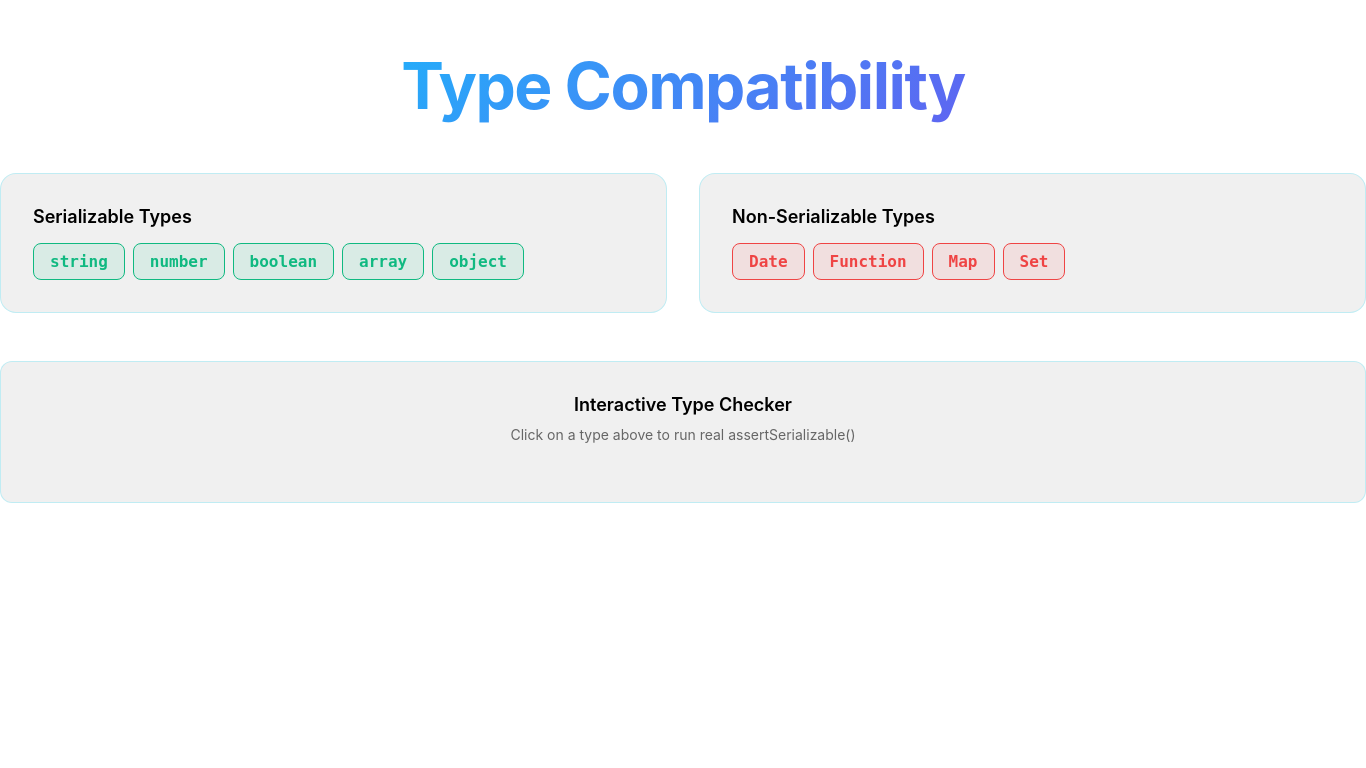
Test: TypeDemo › interactive type checker › should show "SerializationError" when Date is selected
Click the button with test id "type-card-Date".
click(768, 262)  # box left=732, top=243, right=804, bottom=280
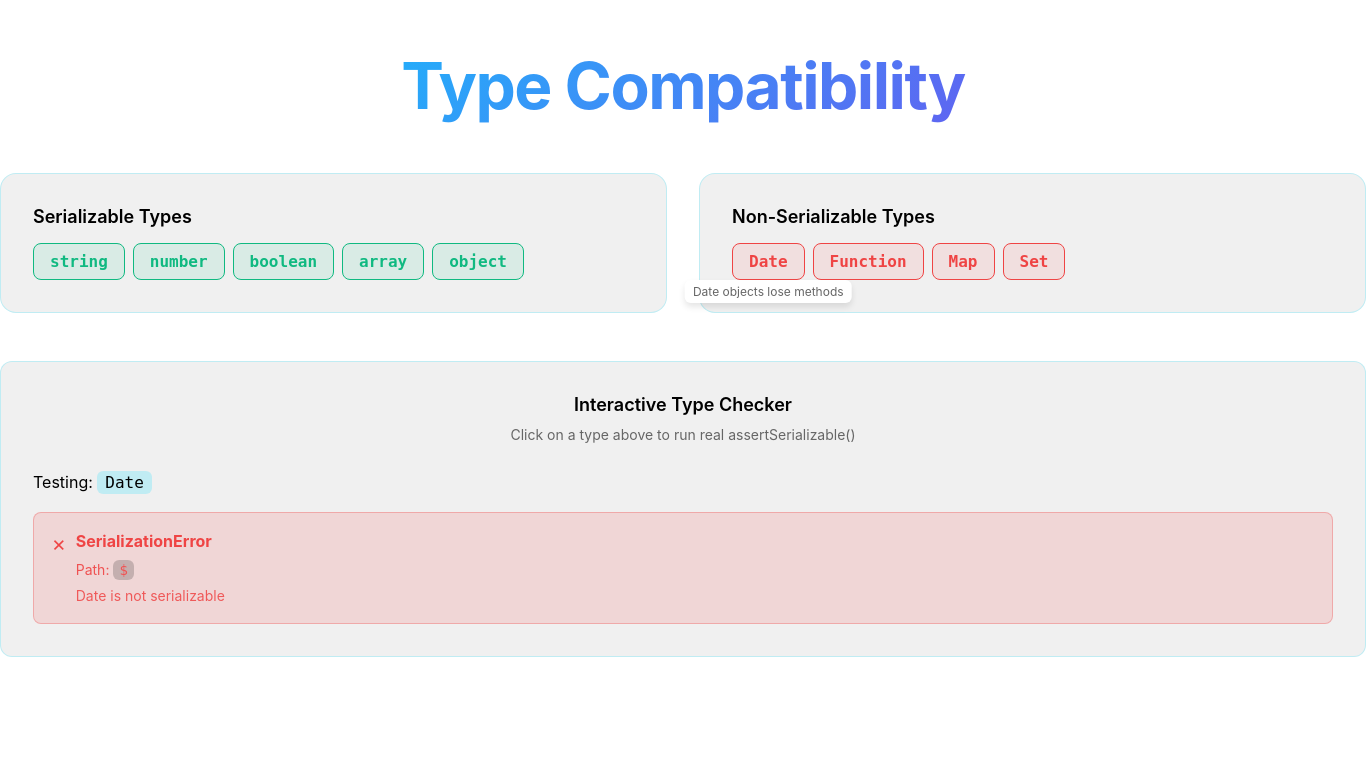
Expected: the text "SerializationError" is shown, left=76, top=531, right=212, bottom=551
